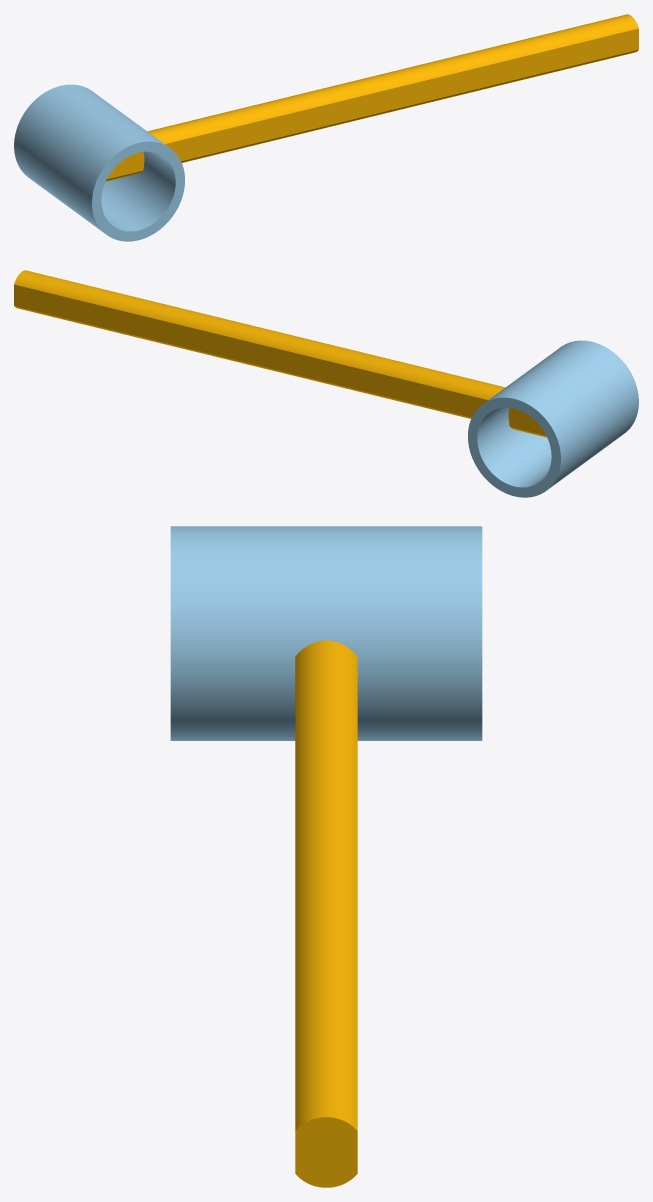
File: RPR_link1.obj
3 renders of one model, top to bottom at view 1: azimuth 30°, elevation 25°; view 2: azimuth 150°, elevation 25°; view 3: azimuth 270°, elevation 25°, orthographic. The views are drawn at different scales.
Visible parts, largest first — view 1: mesh0, mesh8, mesh3, mesh6, mesh7, mesh1; view 2: mesh2, mesh8, mesh3, mesh6, mesh9, mesh1; view 3: mesh8, mesh3, mesh4.
Boxes of the visible parts, x1,y1,x2,y2 form: mesh0: (107,28,638,179); mesh8: (14,84,167,232); mesh3: (147,14,638,143); mesh6: (101,151,175,231); mesh7: (92,141,184,241); mesh1: (106,49,638,181); mesh2: (14,284,545,435); mesh8: (485,340,638,488); mesh3: (14,270,505,399); mesh6: (477,407,551,487); mesh9: (468,397,560,497); mesh1: (14,305,546,437); mesh8: (170,526,482,740); mesh3: (295,640,357,1130); mesh4: (295,1117,357,1187).
Bounding box in the file's own units: 0.2175 × 0.035 × 0.0508.
